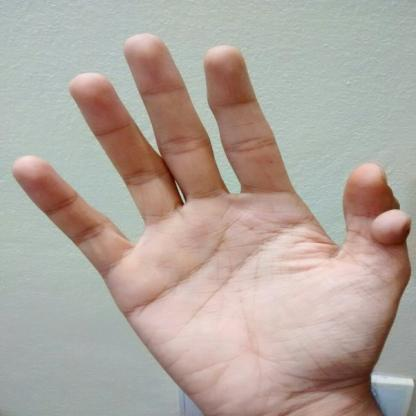palm: (10, 31, 412, 416)
